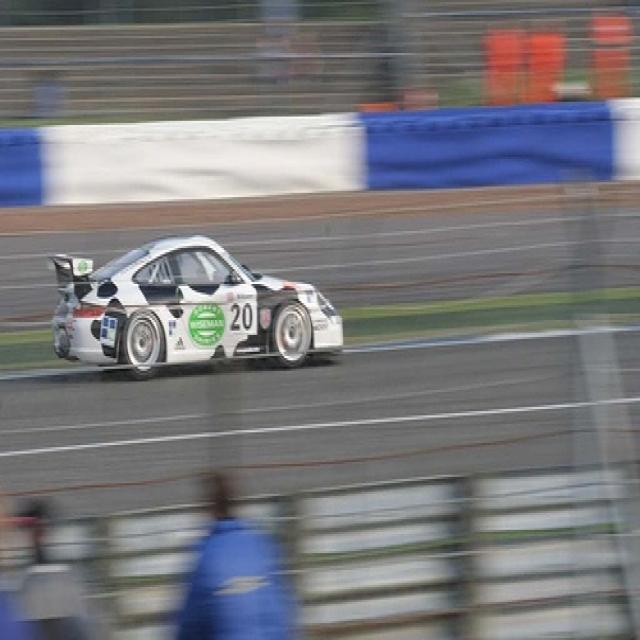car: (46, 231, 348, 375)
